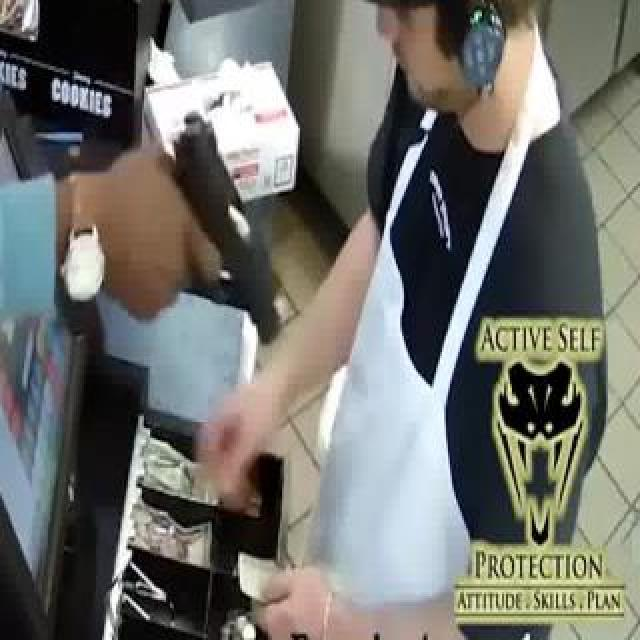Guns: (130, 88, 302, 367)
